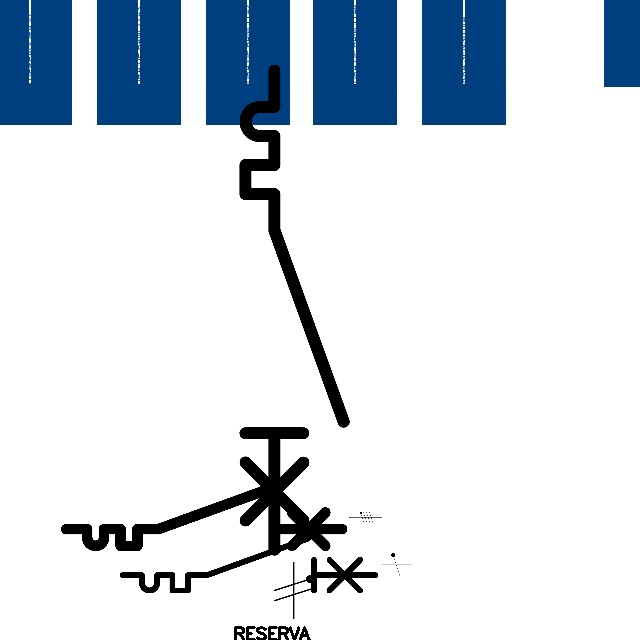interruptor_termomagnetico: (233, 58, 356, 561), (59, 482, 349, 553), (116, 532, 382, 597)
